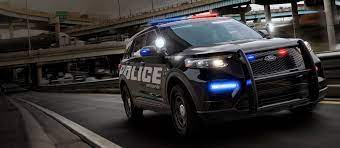special: (120, 12, 327, 138)
